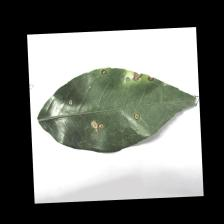canker: (56, 60, 170, 133)
